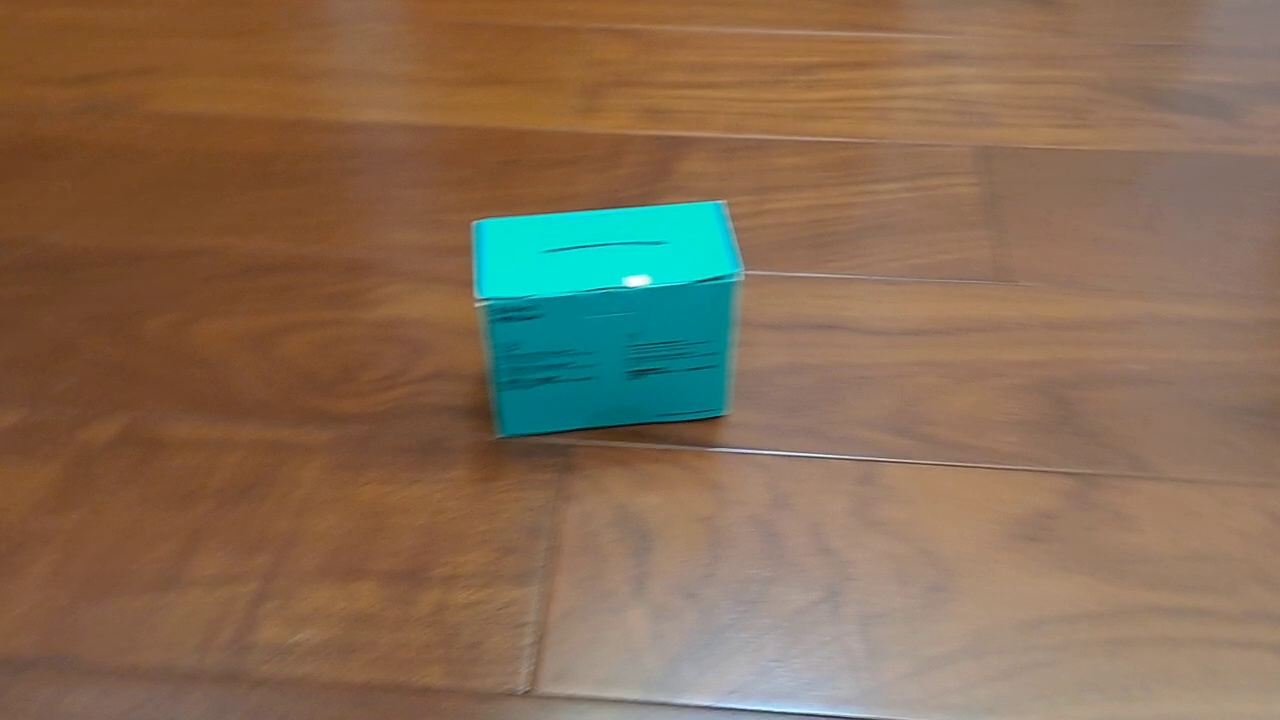webcam: (468, 198, 747, 444)
